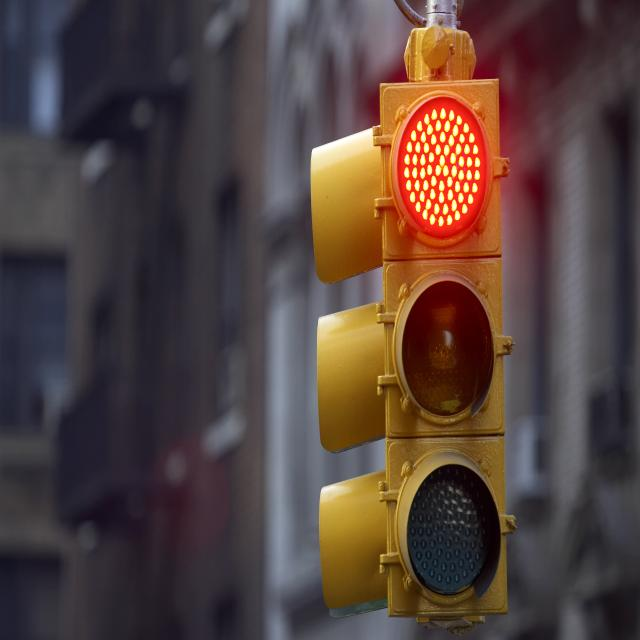Merah: (398, 103, 486, 238)
